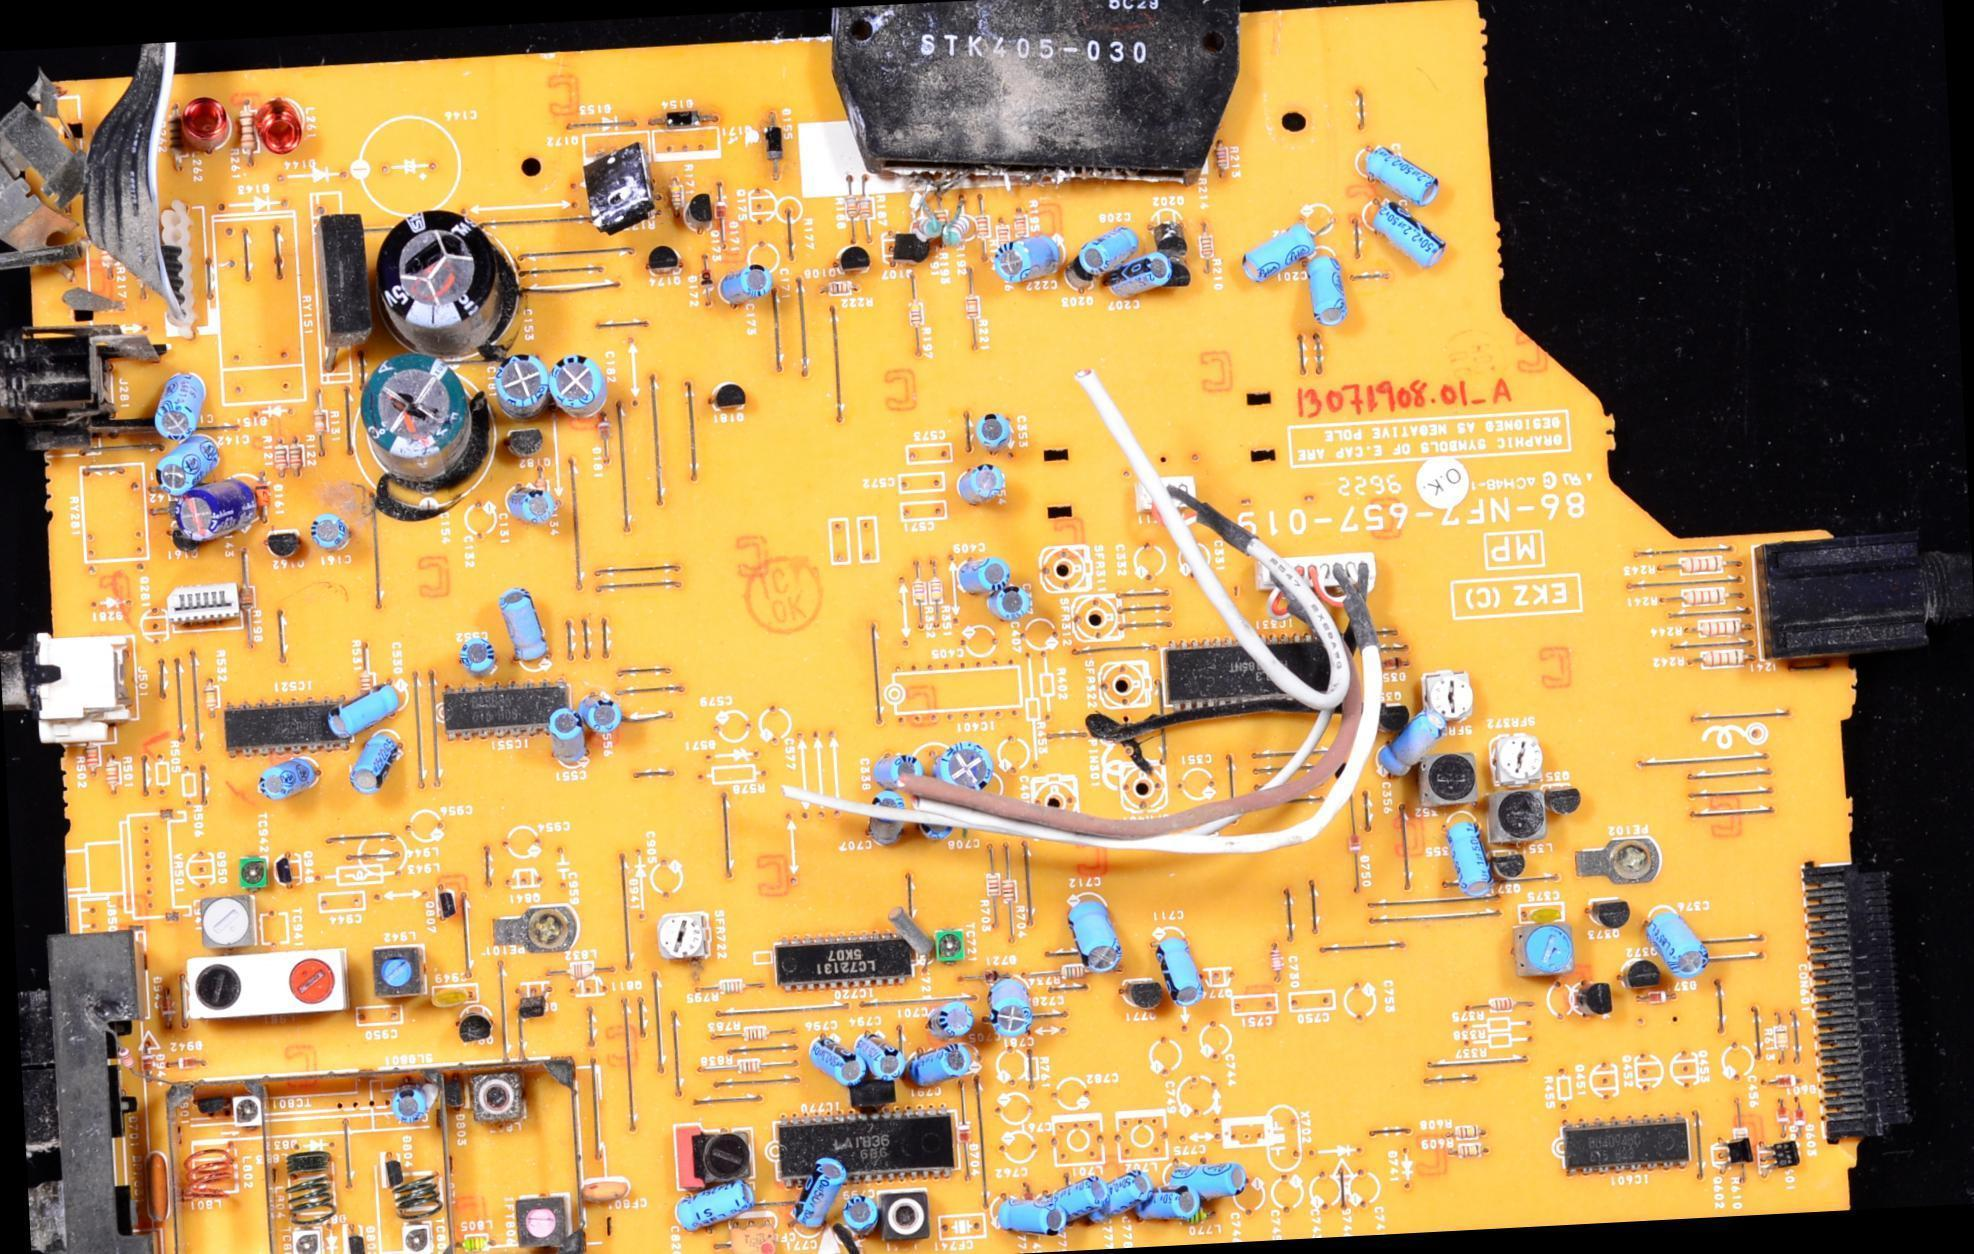Capacitor: (354, 349, 484, 481), (1364, 199, 1449, 284), (1349, 130, 1447, 203), (171, 473, 264, 546), (1228, 220, 1328, 288), (1147, 926, 1221, 1013), (1439, 812, 1506, 906), (1062, 885, 1125, 982), (1642, 899, 1711, 978), (1074, 216, 1147, 288), (148, 434, 228, 501), (1378, 706, 1448, 780), (930, 730, 997, 806), (672, 1180, 765, 1232), (150, 360, 207, 443), (1289, 251, 1356, 323), (976, 970, 1043, 1040), (998, 226, 1059, 300), (984, 1195, 1077, 1243), (498, 578, 548, 663), (333, 675, 401, 736), (497, 351, 555, 423), (793, 1160, 851, 1234), (1142, 1175, 1216, 1233), (1118, 251, 1188, 309), (549, 336, 599, 419), (906, 1039, 977, 1095), (805, 1029, 867, 1093), (341, 730, 401, 795), (1179, 1148, 1242, 1208), (853, 787, 920, 843), (717, 257, 775, 319), (1061, 1169, 1115, 1235), (952, 455, 1015, 510), (538, 704, 591, 769), (576, 684, 637, 739), (253, 747, 315, 801), (873, 738, 936, 791), (912, 789, 969, 849), (853, 1024, 908, 1085), (451, 626, 504, 685), (1102, 1168, 1157, 1224), (949, 548, 1005, 601), (974, 402, 1027, 455), (504, 481, 560, 527), (309, 503, 351, 555), (987, 578, 1033, 624), (578, 1171, 636, 1206), (838, 1194, 886, 1233), (928, 1003, 978, 1040), (389, 1082, 429, 1123)
IC: (1163, 625, 1366, 725), (1545, 1105, 1711, 1175), (779, 1114, 969, 1174), (771, 931, 910, 989)
Resistor: (1691, 642, 1748, 674), (1686, 613, 1745, 642), (1679, 584, 1734, 611), (1672, 552, 1726, 577), (976, 865, 1010, 902), (908, 208, 945, 241), (944, 211, 975, 246), (737, 1017, 772, 1045), (664, 177, 691, 216), (100, 755, 126, 793), (820, 275, 858, 300), (307, 407, 336, 439), (711, 973, 744, 1001), (80, 738, 106, 772), (1451, 1120, 1485, 1145), (1732, 1119, 1752, 1161), (986, 220, 1011, 250), (357, 663, 375, 704), (1452, 1137, 1487, 1159), (199, 682, 223, 713), (971, 206, 994, 239), (730, 1059, 764, 1080), (1000, 874, 1020, 910), (287, 438, 307, 474), (959, 292, 984, 320), (857, 187, 877, 221), (905, 297, 926, 329), (840, 191, 861, 222), (270, 444, 291, 475), (1485, 995, 1516, 1014)
Transistor: (374, 195, 486, 338)
